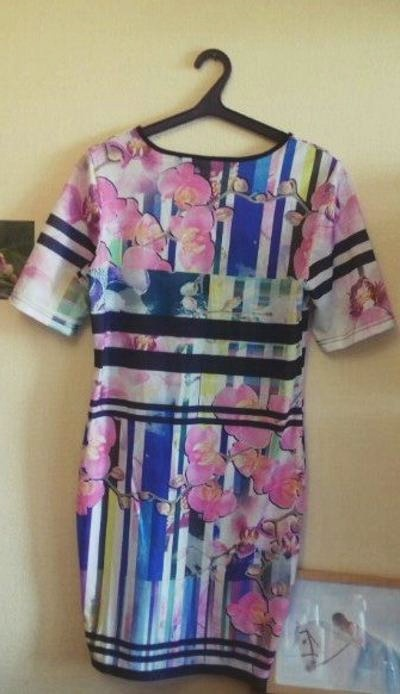Dress: (10, 85, 400, 678)
